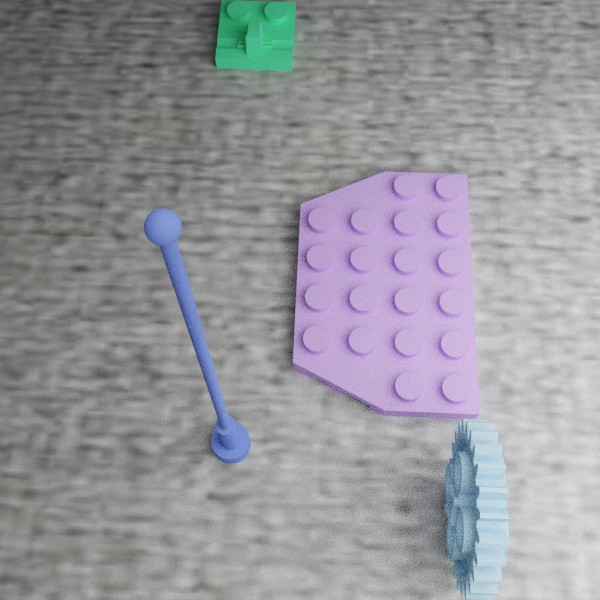lego: (292, 171, 479, 419), (143, 208, 250, 463), (444, 418, 509, 600), (215, 0, 295, 70)
